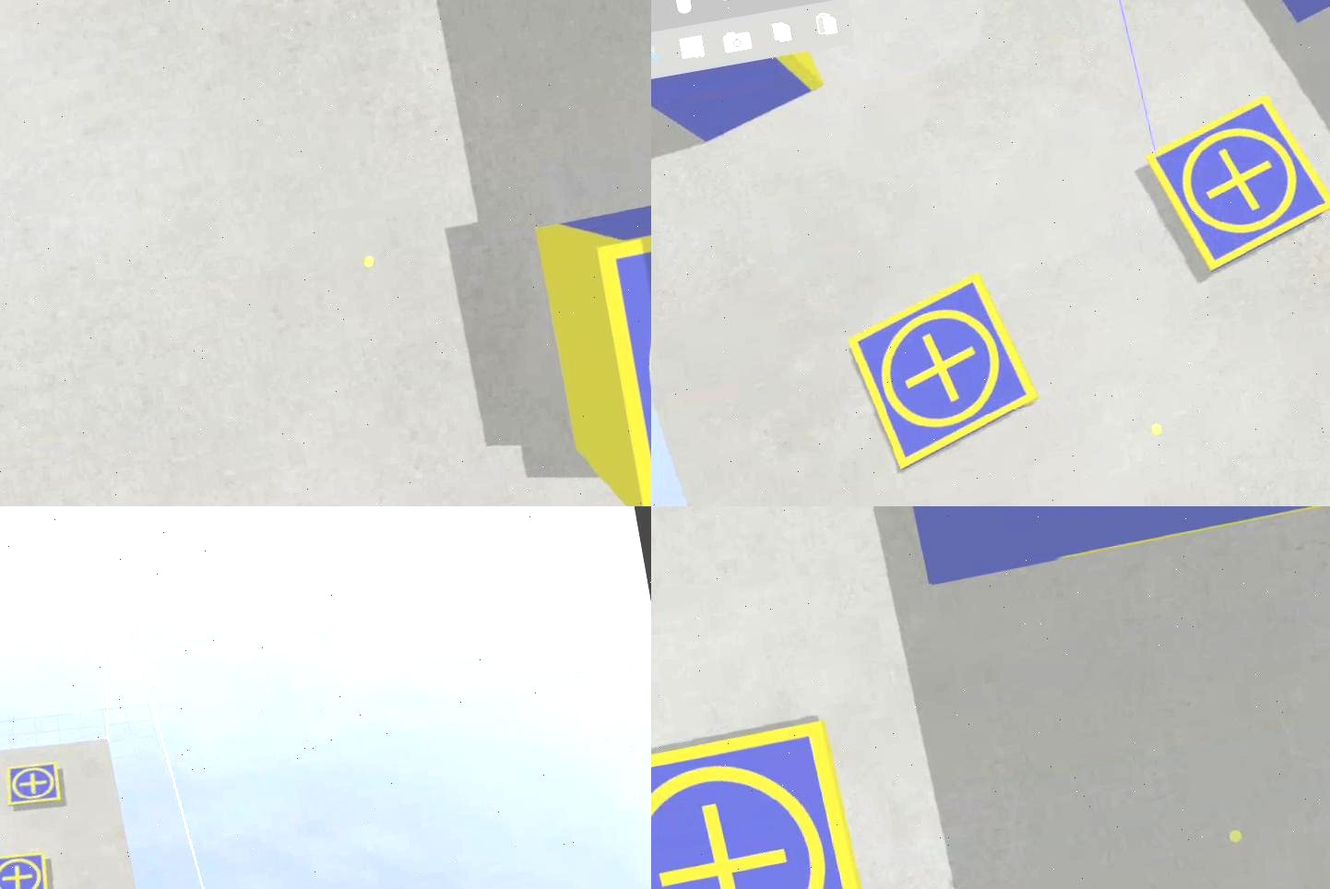large_base: (892, 506, 1330, 586)
small_base: (839, 267, 1048, 476), (652, 710, 876, 889), (1137, 90, 1330, 280), (2, 757, 66, 810), (1, 849, 54, 889)
